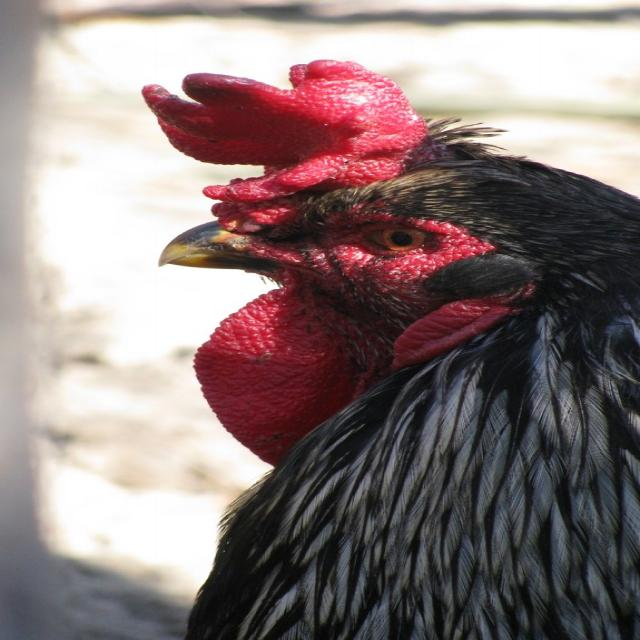Chicken: (141, 59, 640, 640)
